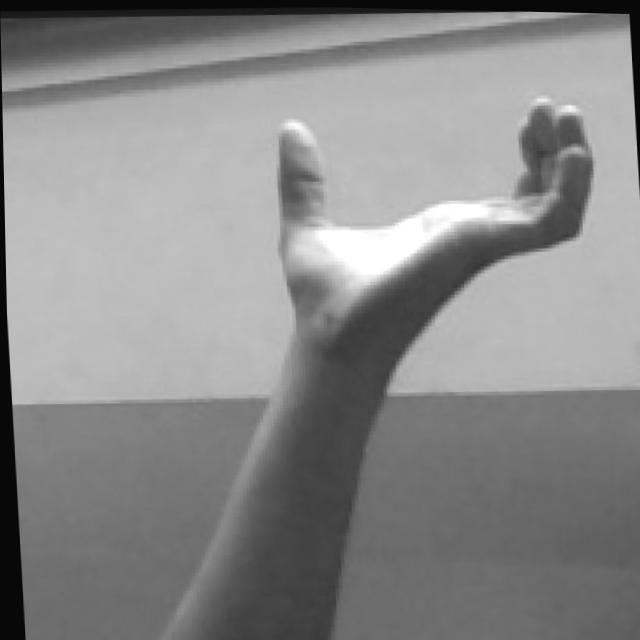space: (267, 78, 610, 351)
